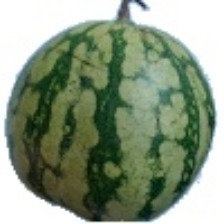watermelon: (43, 62, 179, 207)
